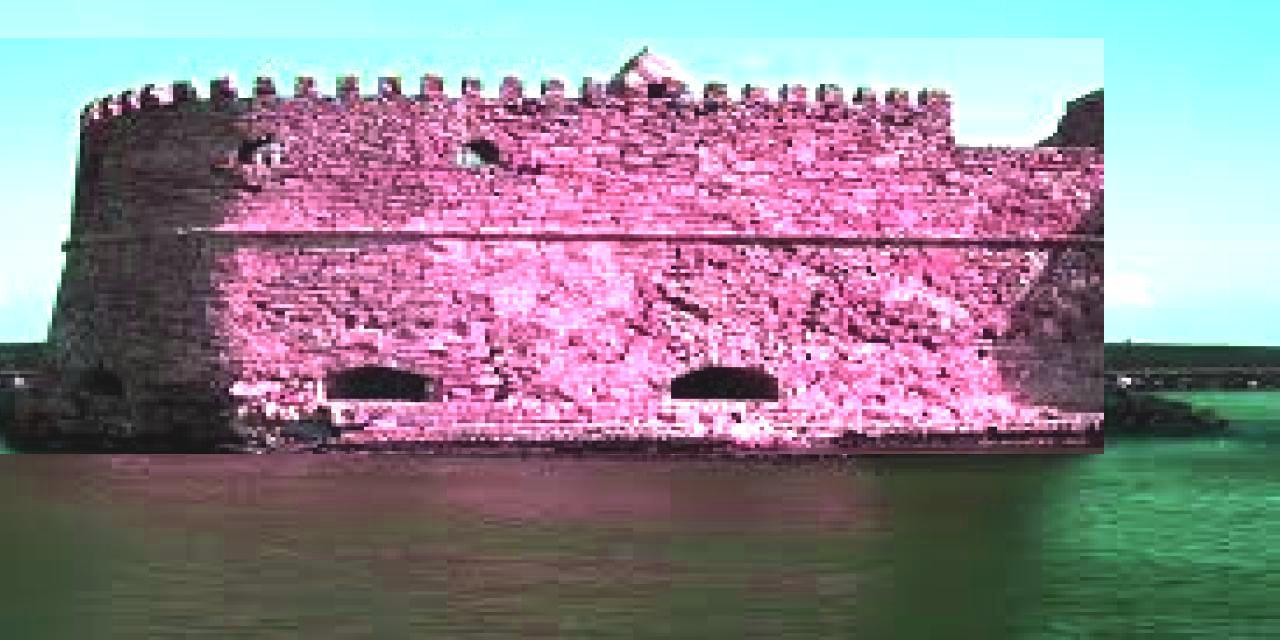Kules: (1, 39, 1105, 455)
